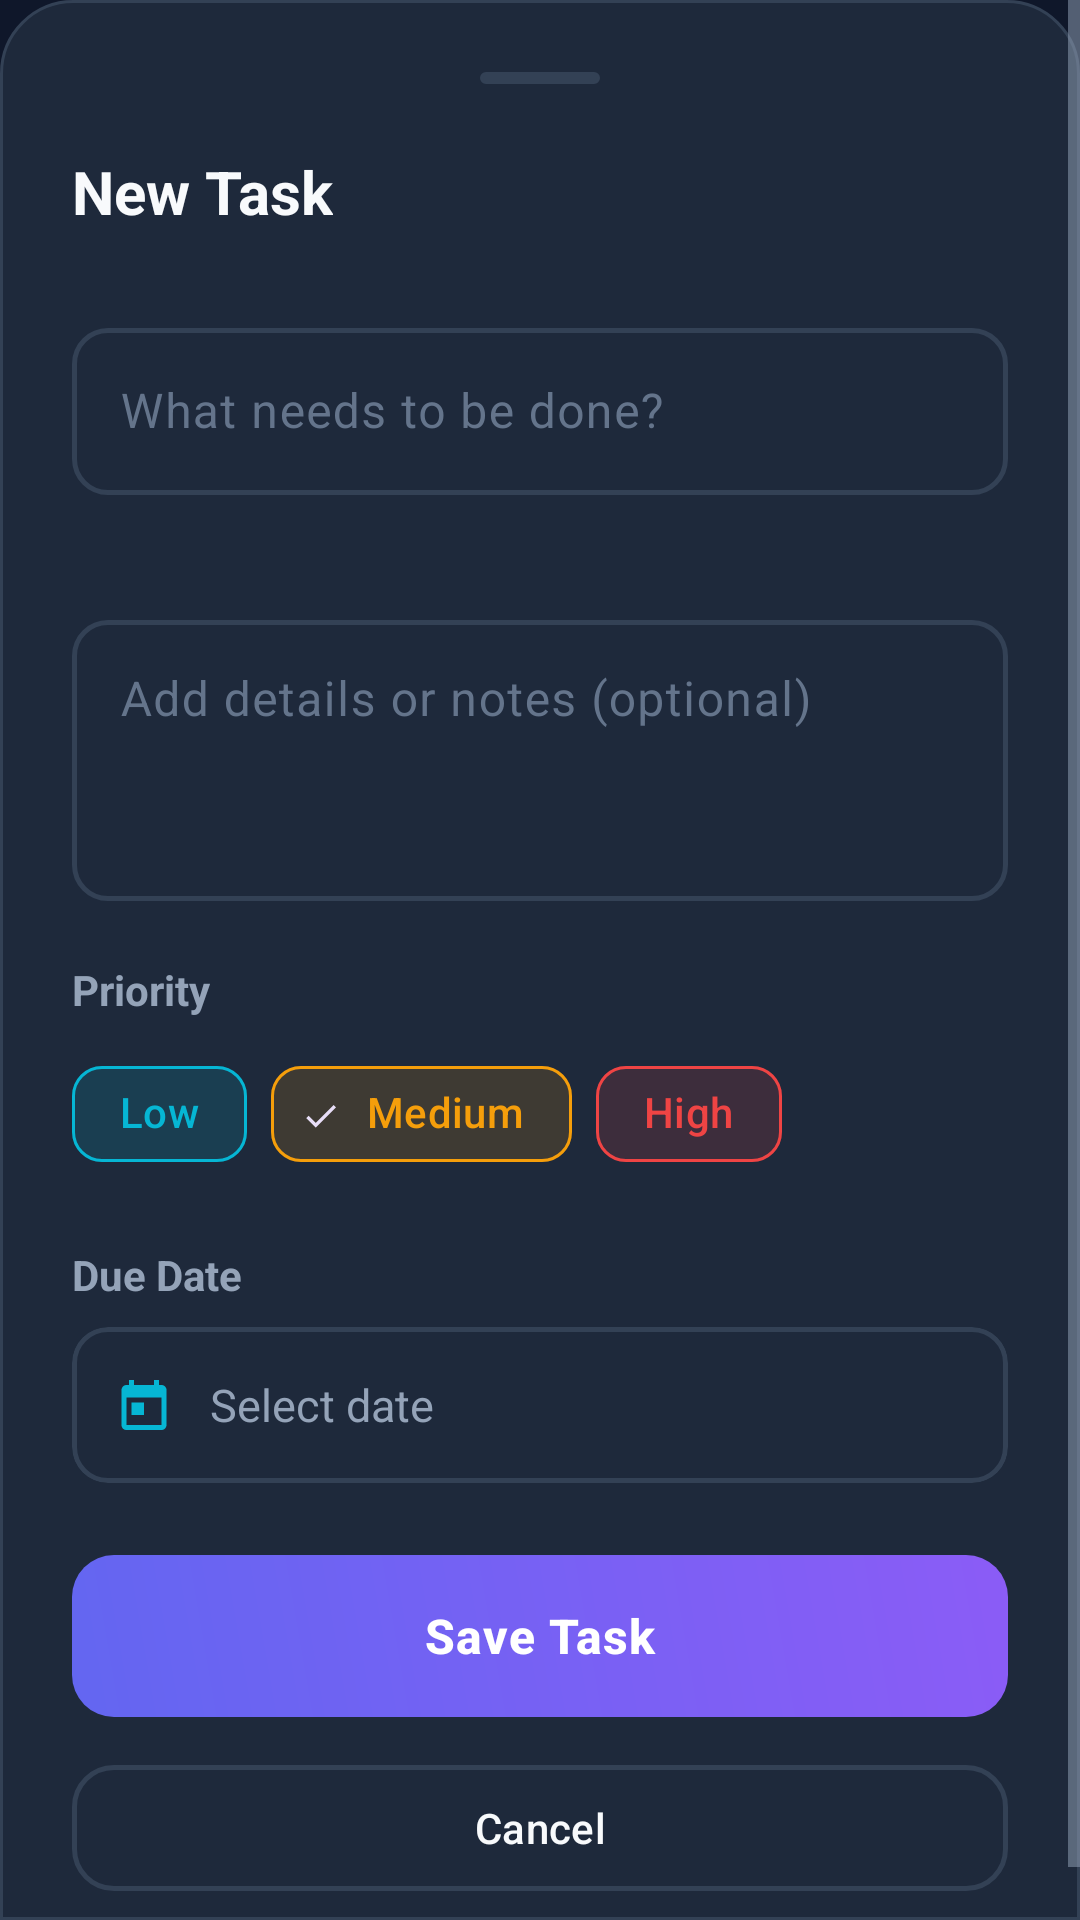

Icon bounding boxes for this 1080px×1920px phone screenshot, format box=[x1, y1, x2, y2]:
calendar: box=[121, 1380, 167, 1430]
